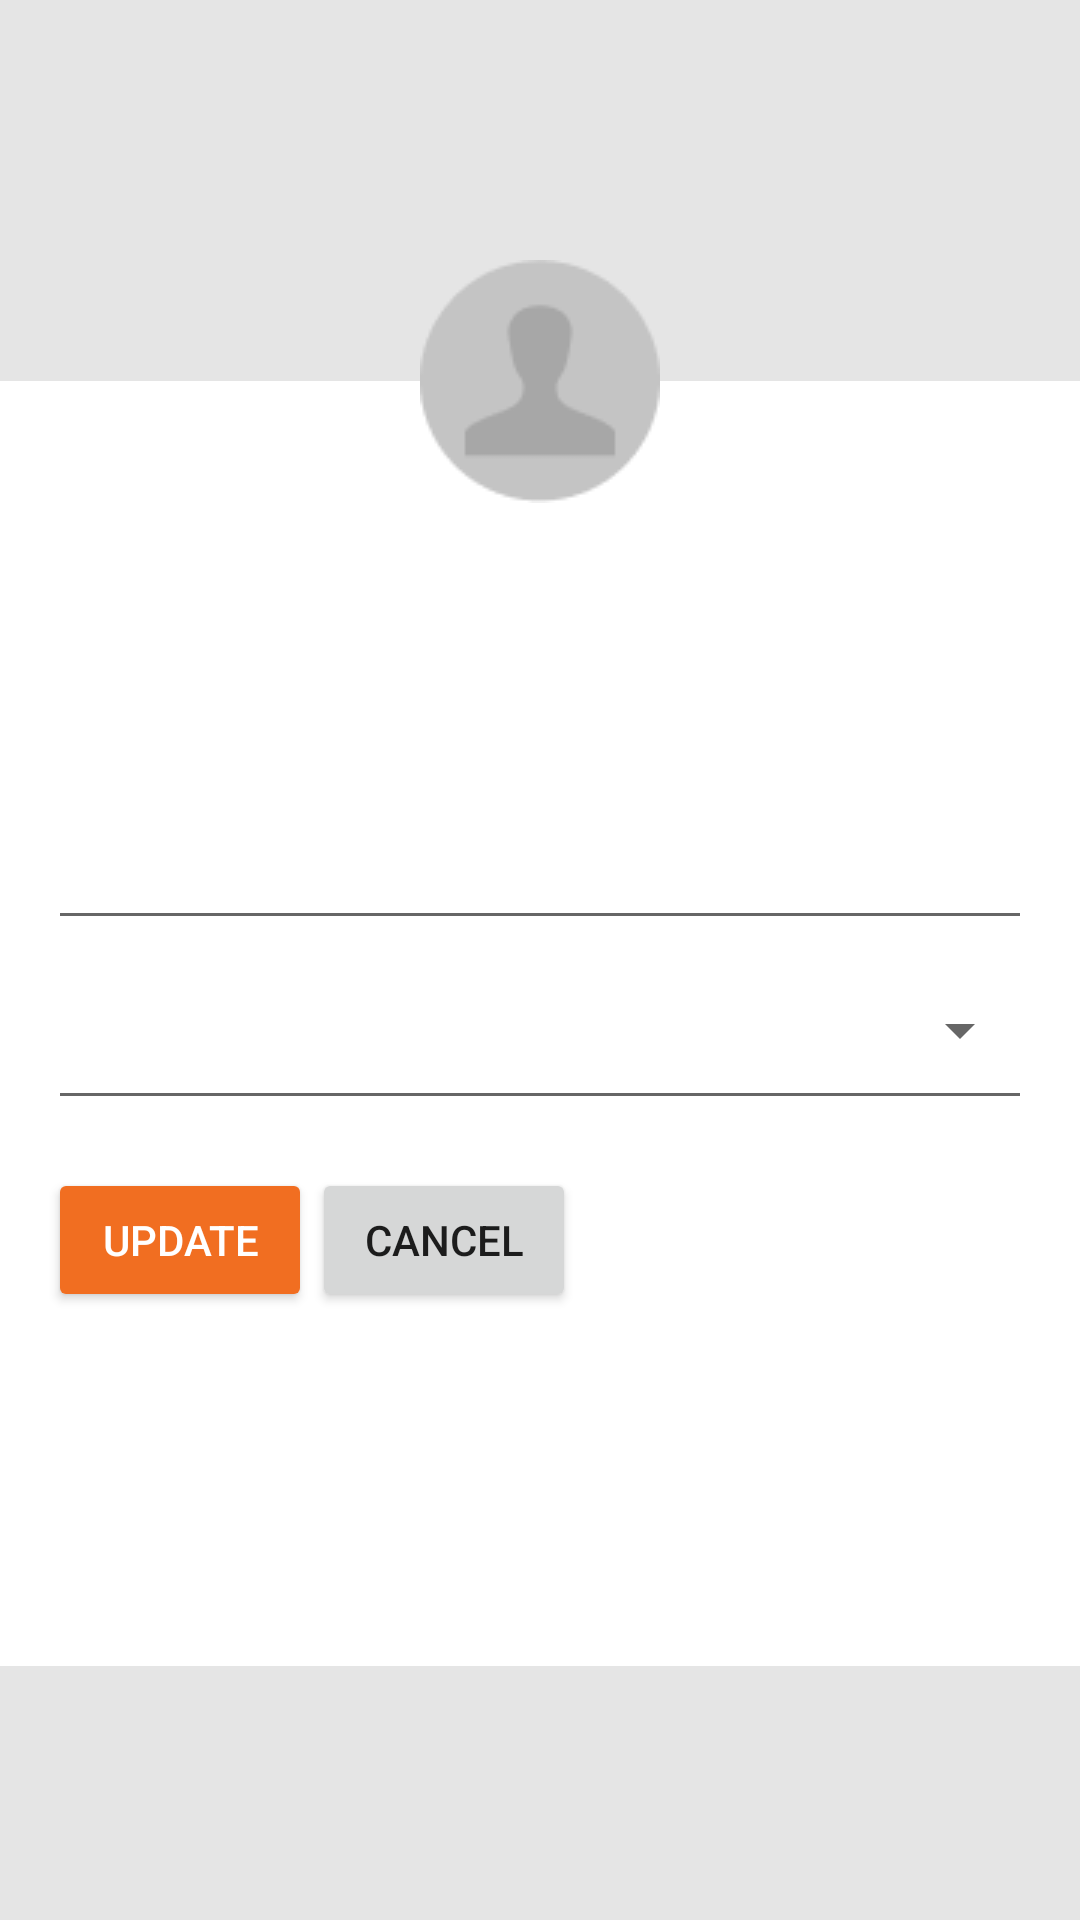

Point at icon controls on the screen. Image size 1080*1920, points as (x,y).
user: (540,381)
